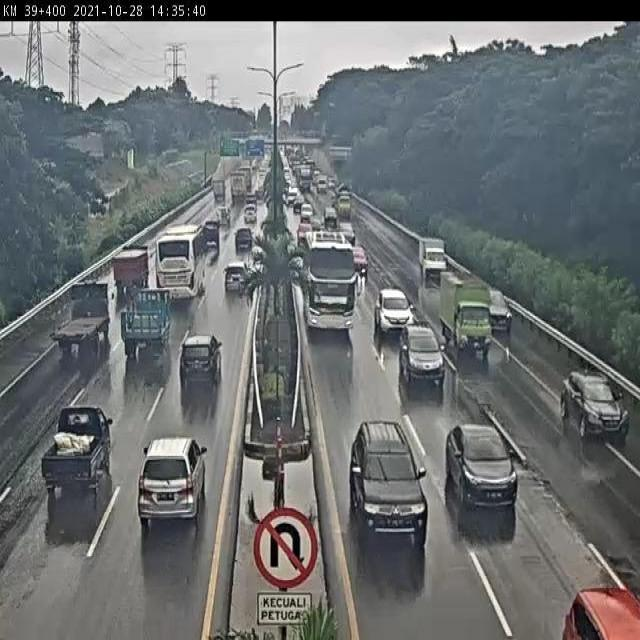big bus: (304, 233, 357, 329), (154, 224, 207, 300)
big truck: (229, 173, 247, 203)
car: (347, 420, 427, 539), (138, 438, 206, 534), (41, 406, 111, 498), (445, 421, 517, 504), (562, 584, 640, 640), (564, 373, 627, 440), (399, 327, 444, 381), (183, 335, 221, 388), (375, 287, 414, 329), (421, 240, 445, 276), (488, 292, 509, 329), (224, 261, 249, 292), (235, 228, 255, 253), (351, 249, 368, 272), (214, 206, 230, 226), (243, 205, 257, 224), (297, 223, 312, 240), (323, 205, 336, 223), (340, 224, 353, 240), (299, 203, 313, 217)
small truck: (49, 283, 111, 352), (439, 272, 491, 352), (121, 291, 174, 364), (112, 245, 150, 292), (334, 190, 351, 218), (203, 221, 220, 248), (212, 180, 225, 199)
